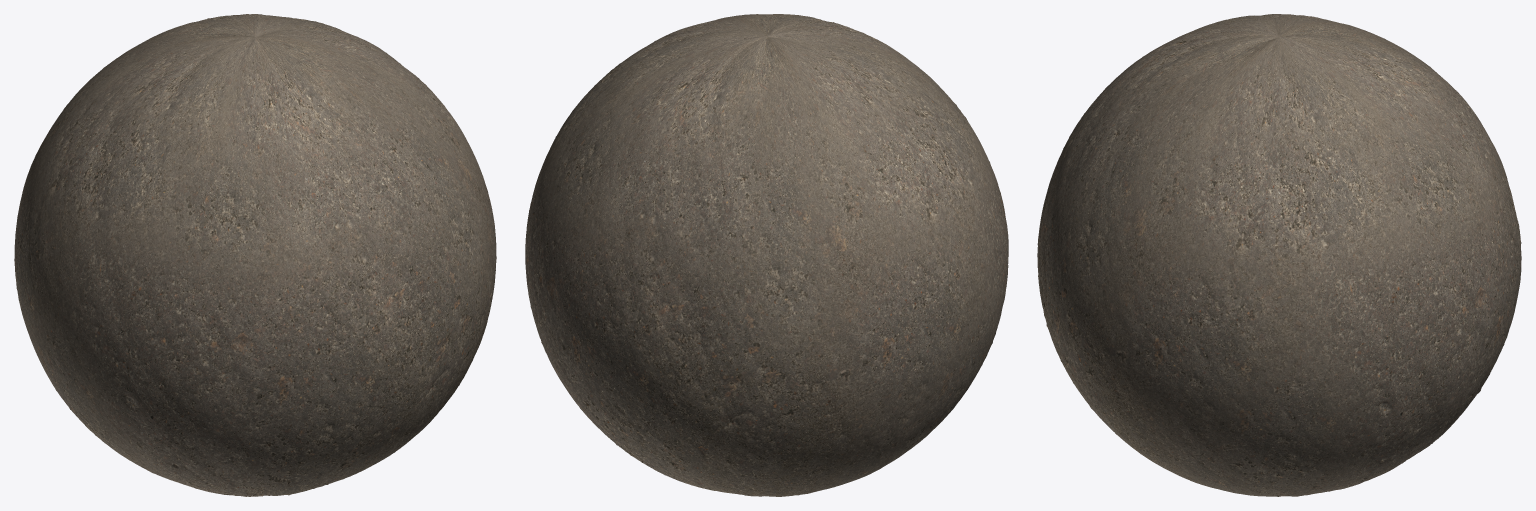
File: rock_01_2k.gltf
3 views of the same model, side by side, from view 1: azimuth 30°, elevation 25°; view 2: azimuth 150°, elevation 25°; view 3: azimuth 270°, elevation 25° (orthographic).
Parts seen in each view (by area): view 1: sphere_gltf.001; view 2: sphere_gltf.001; view 3: sphere_gltf.001.
Part boxes in pixels (x1,y1,x2,y2): sphere_gltf.001: [14, 14, 496, 496]; sphere_gltf.001: [525, 14, 1008, 496]; sphere_gltf.001: [1037, 14, 1521, 496].
Bounding box in the file's own units: 1.5 × 1.51 × 1.51.
